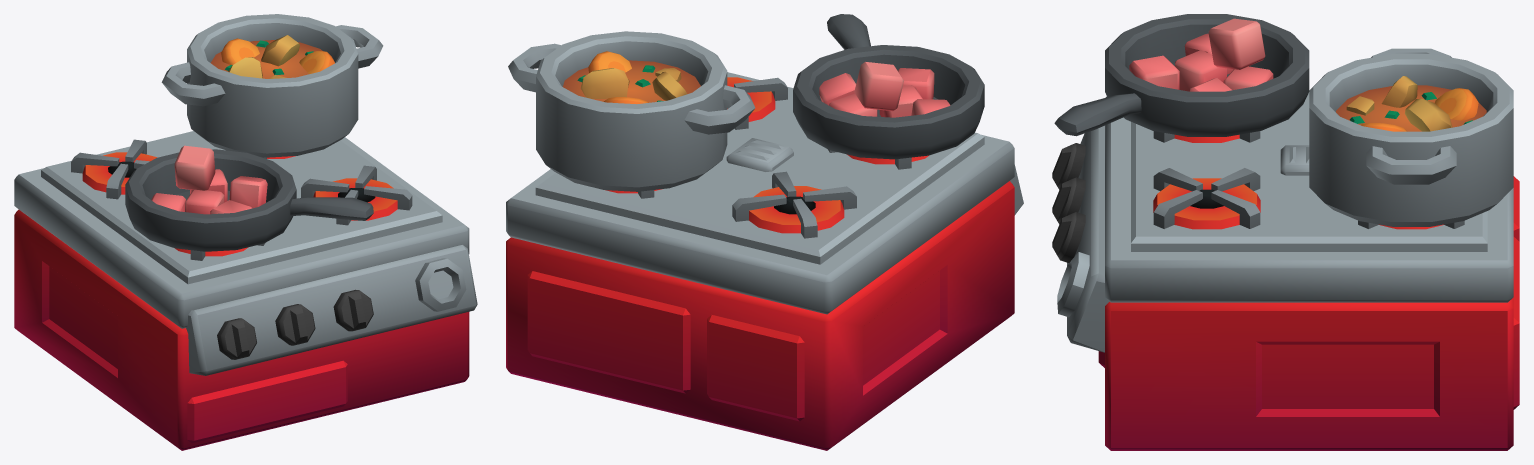
The model's file is stove.glb.
The picture shows the model from 3 angles, left to right: view 1: azimuth 30°, elevation 25°; view 2: azimuth 150°, elevation 25°; view 3: azimuth 270°, elevation 25°; orthographic projection. The views are drawn at different scales.
Visible parts, largest first — view 1: stove_multi_decorated; view 2: stove_multi_decorated; view 3: stove_multi_decorated.
Part boxes in pixels (bbox=[...]): stove_multi_decorated: bbox=[14, 14, 477, 450]; stove_multi_decorated: bbox=[506, 14, 1023, 450]; stove_multi_decorated: bbox=[1052, 14, 1519, 450].
Bounding box in the file's own units: 2.2 × 1.72 × 2.29.
1 material, 1 textured.
